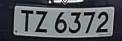2: (96, 11, 111, 35)
3: (69, 11, 83, 35)
6: (53, 11, 69, 35)
7: (82, 12, 96, 35)
T: (20, 9, 35, 34)
Z: (33, 10, 51, 34)
